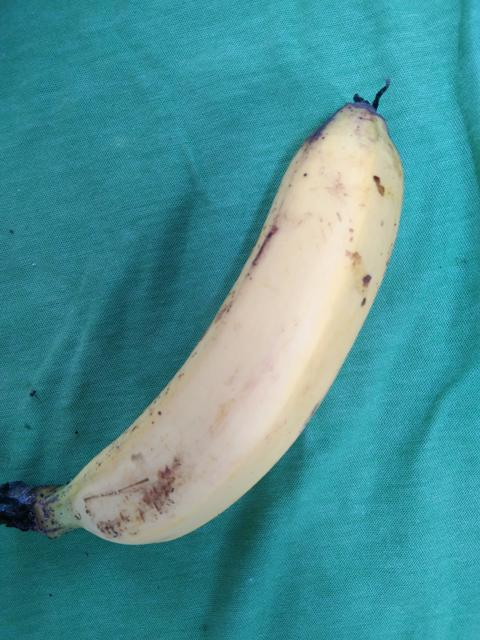freshripe: (54, 105, 419, 561)
